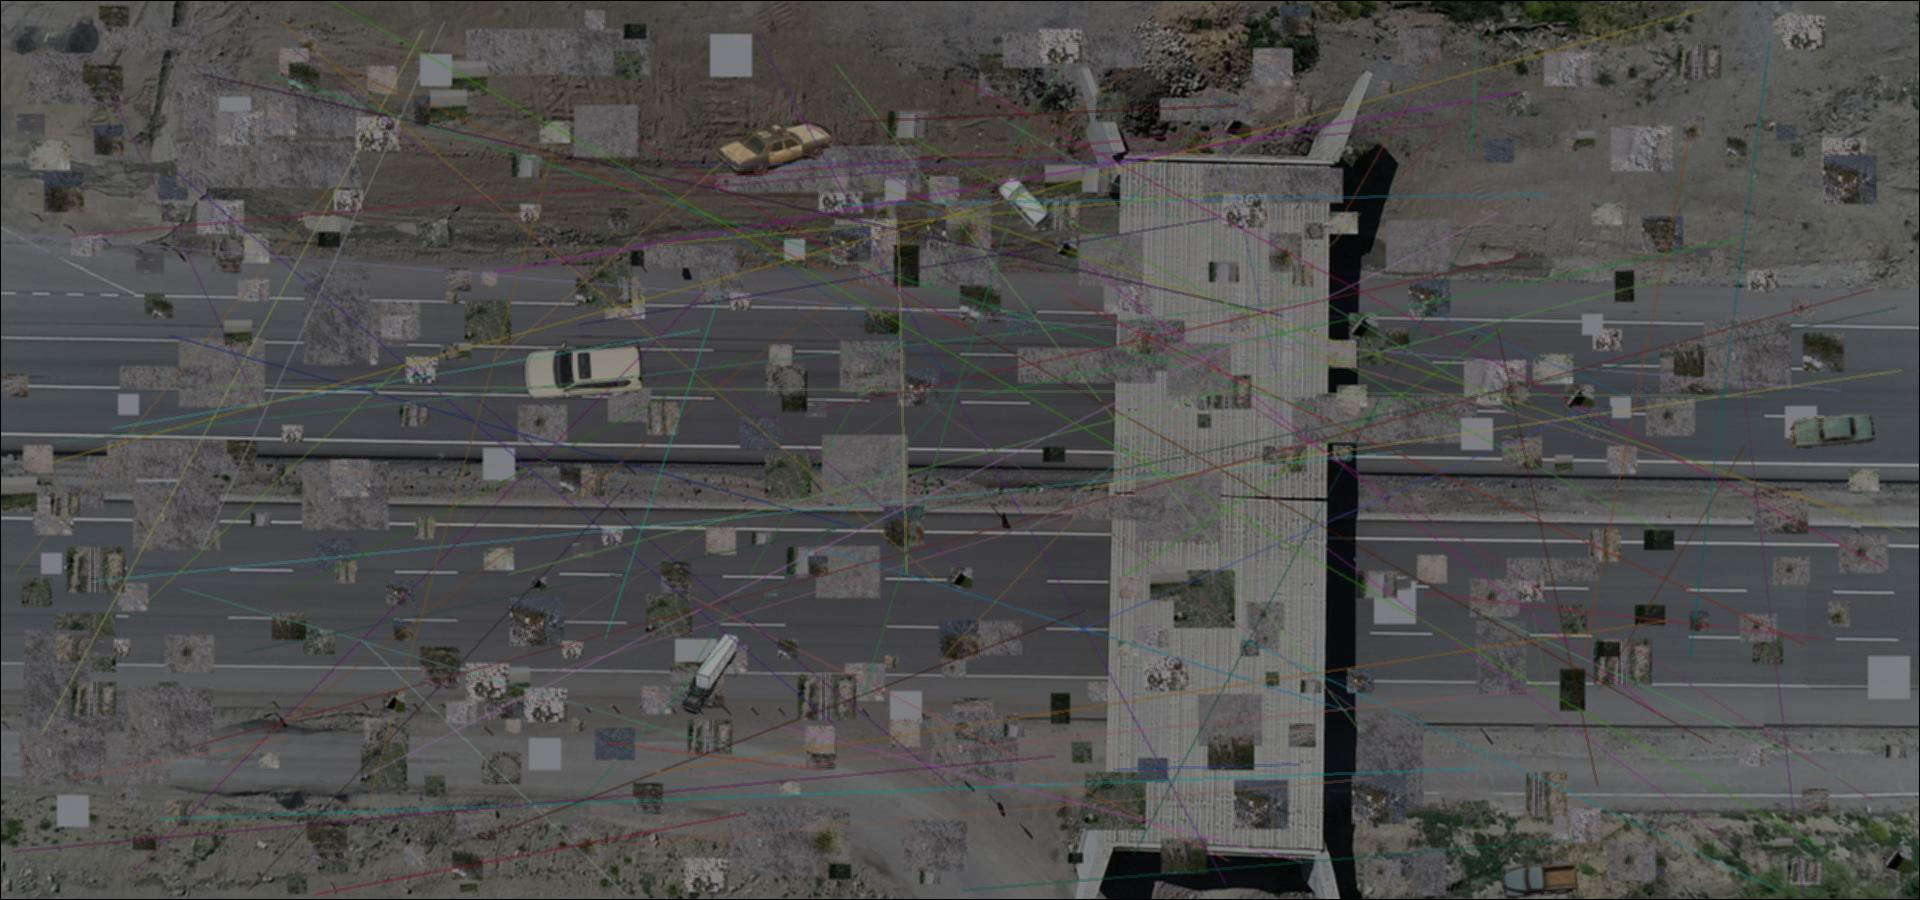arac: (518, 339, 647, 398), (718, 118, 838, 176), (680, 632, 740, 715), (997, 171, 1053, 231), (1787, 413, 1875, 451), (1500, 856, 1580, 898)
